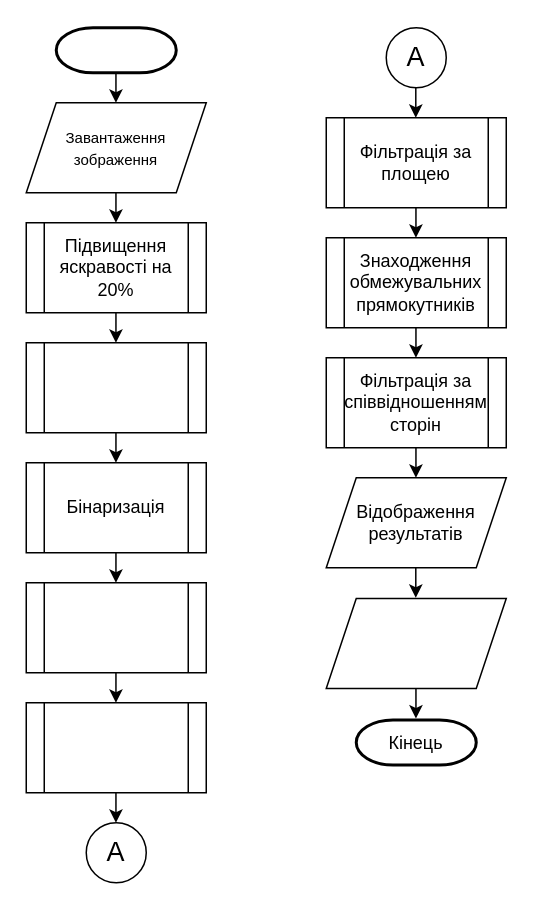
Image size: 533x909. Some labels were removed from this diagram. The shapes that lost their labels are listed below. From the top down, each one's centre as x and y in pixels, then its label:
At pixel 115 50: "Початок".
At pixel 115 387: "Конвертація в колірний простір HSV".
At pixel 115 627: "Морфологічна обробка: відкриття, закриття".
At pixel 415 642: "Збереження результатів".
At pixel 115 747: "Пошук контурів".
